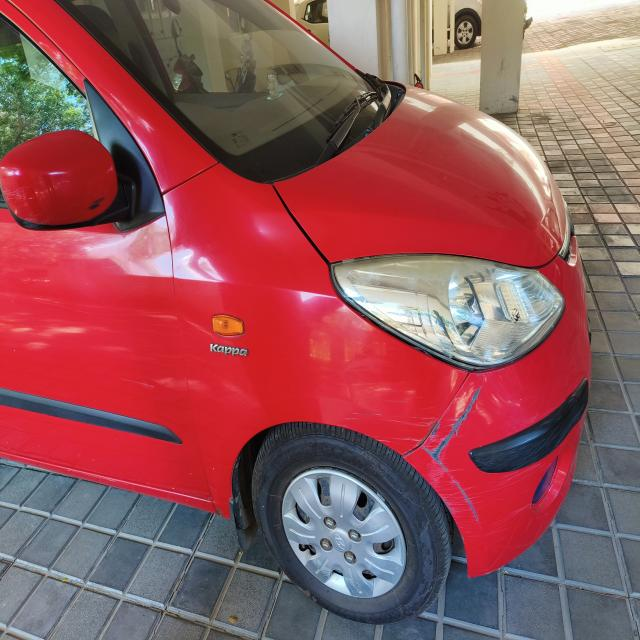scratch: (407, 368, 498, 530), (348, 384, 408, 446)
